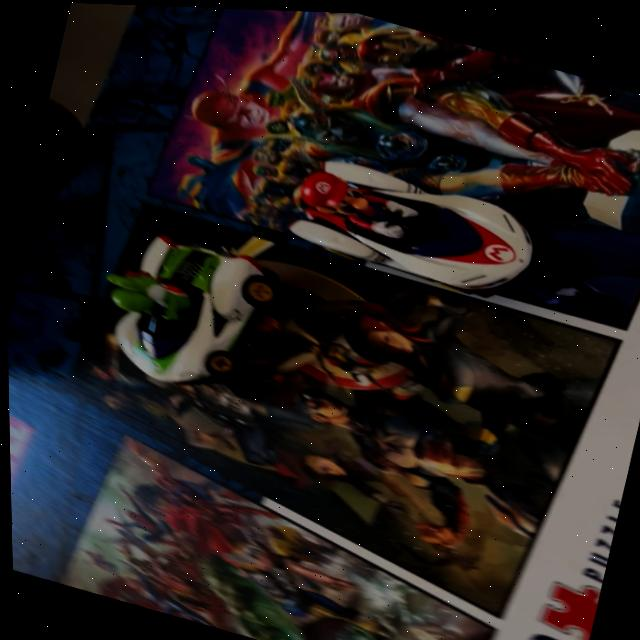mario: (255, 130, 564, 315)
yoshi: (55, 190, 306, 427)
